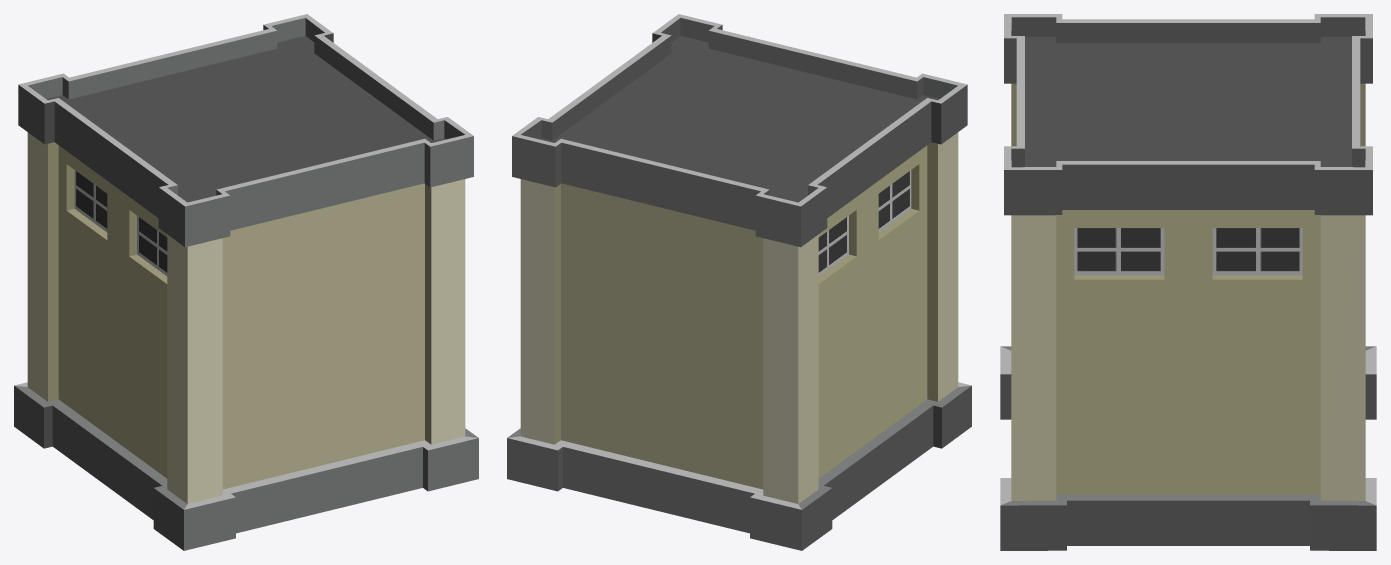
File: _factory_small_tan.fbx
3 renders of one model, left to right at view 1: azimuth 30°, elevation 25°; view 2: azimuth 150°, elevation 25°; view 3: azimuth 270°, elevation 25°, orthographic. The views are drawn at different scales.
Visible parts, largest first — view 1: factory_tinyl_tan; view 2: factory_tinyl_tan; view 3: factory_tinyl_tan.
Part boxes in pixels (<box>): factory_tinyl_tan: <box>14,14,478,550</box>; factory_tinyl_tan: <box>507,14,971,550</box>; factory_tinyl_tan: <box>1000,14,1376,550</box>.
Size of the model in its own units: 9.09 by 10.08 by 9.07.
1 material, 1 textured.
